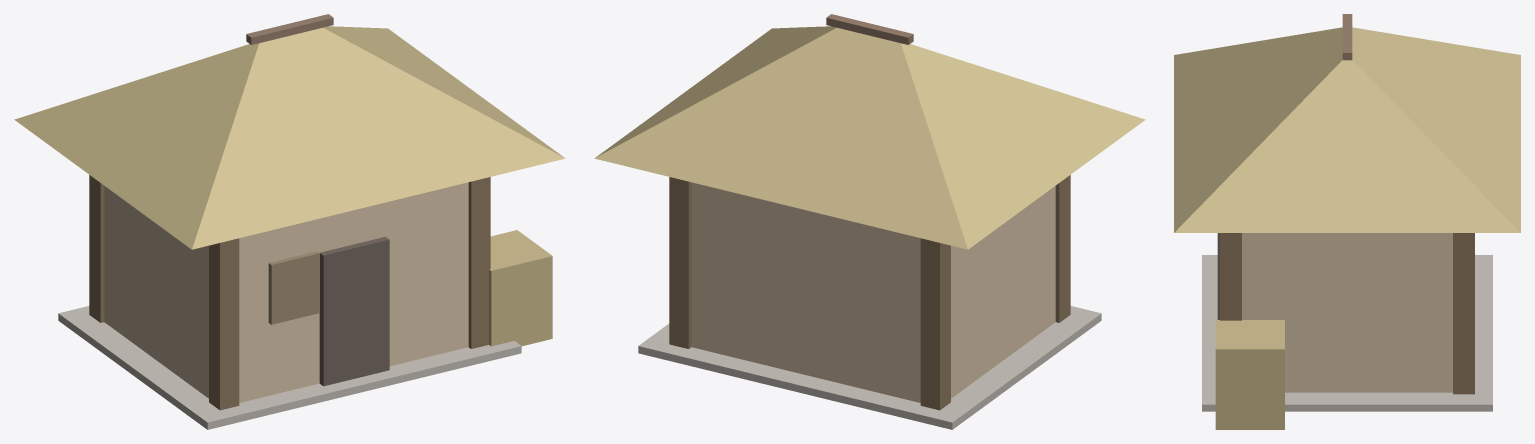
The model's file is farmhouse_a.glb.
3 views of the same model, side by side, from view 1: azimuth 30°, elevation 25°; view 2: azimuth 150°, elevation 25°; view 3: azimuth 270°, elevation 25° (orthographic). The views are drawn at different scales.
Size of the model in its own units: 4.35 by 3.38 by 3.5.
